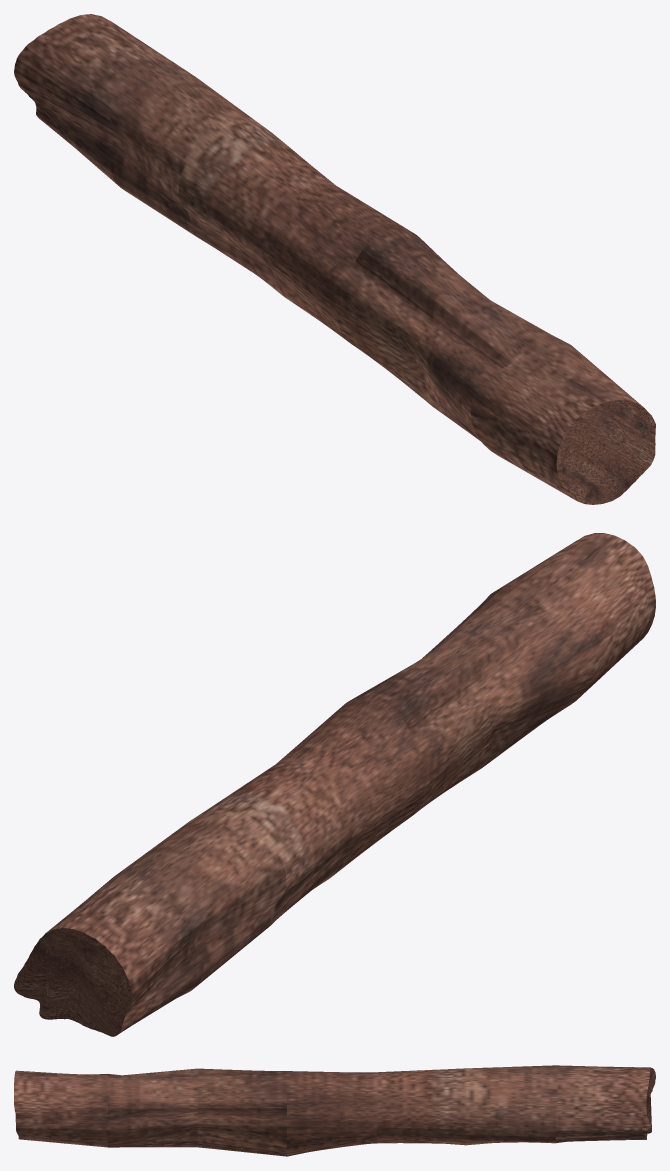
File: branch5.fbx
3 renders of one model, top to bottom at view 1: azimuth 30°, elevation 25°; view 2: azimuth 150°, elevation 25°; view 3: azimuth 270°, elevation 25°, orthographic. The views are drawn at different scales.
Parts seen in each view (by area): view 1: Cylinder; view 2: Cylinder; view 3: Cylinder.
Part boxes in pixels (<box>): Cylinder: <box>14,14,655,504</box>; Cylinder: <box>14,533,655,1036</box>; Cylinder: <box>14,1065,655,1156</box>.
Bounding box in the file's own units: 26.68 × 28.23 × 205.
